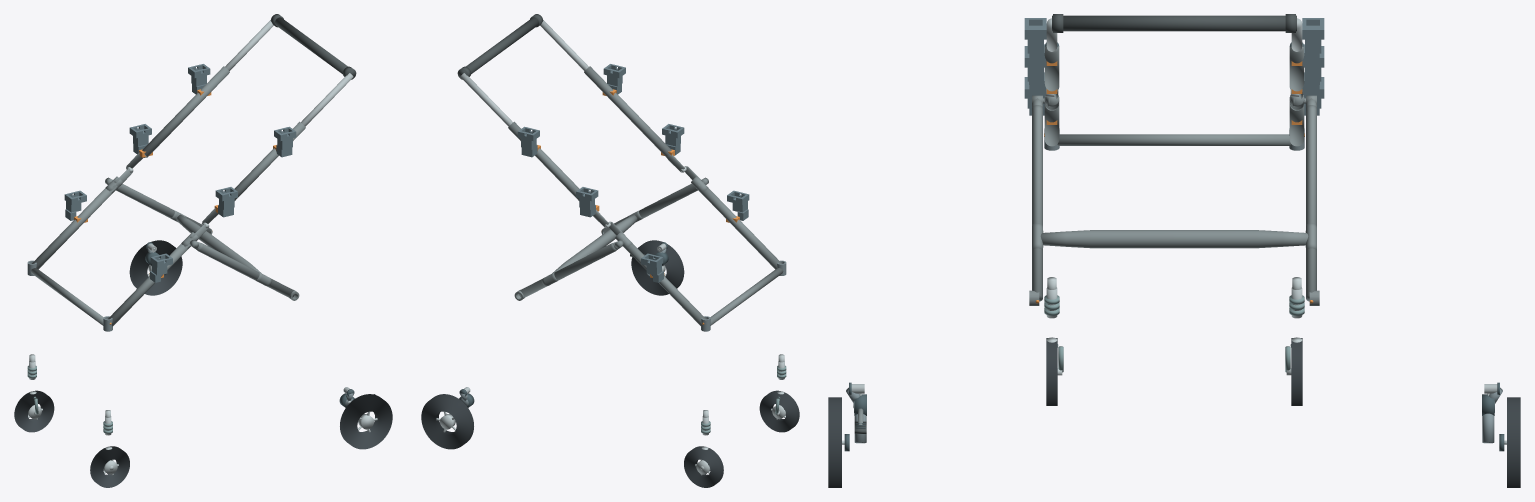
Rendered from w650_state4_wheel_S.glb.
The picture shows the model from 3 angles, left to right: view 1: azimuth 30°, elevation 25°; view 2: azimuth 150°, elevation 25°; view 3: azimuth 270°, elevation 25°; orthographic projection. The views are drawn at different scales.
Visible parts, largest first — view 1: RL_tire.014, RR_tire.014, FL_tire.014, FR_tire.014, main_upper_1.013, main_lower_1.013, round_handle.014, V46_rear_leg_-1.012, V46_rearbar.012, main_lower_-1.013, front_fixed_round_tube.013, main_upper_-1.013 (+9 smaller); view 2: RR_tire.014, RL_tire.014, FR_tire.014, FL_tire.014, main_upper_-1.013, main_lower_-1.013, round_handle.014, V46_rear_leg_1.012, V46_rearbar.012, main_lower_1.013, front_fixed_round_tube.013, main_upper_1.013 (+9 smaller); view 3: V46_rearbar.012, round_handle.014, front_fixed_round_tube.013, V46_rear_leg_1.012, V46_rear_leg_-1.012, RL_tire.014, RR_tire.014, Universal_Cabin_Receiver_H_1, Universal_Cabin_Receiver_H_-1, FL_tire.014, FR_tire.014.
Boxes of the visible parts, box(x1,y1,x2,y2) form: RL_tire.014: box(340, 394, 392, 449); RR_tire.014: box(129, 240, 182, 295); FL_tire.014: box(90, 446, 129, 487); FR_tire.014: box(14, 390, 54, 432); main_upper_1.013: box(142, 66, 229, 157); main_lower_1.013: box(32, 186, 117, 269); round_handle.014: box(275, 17, 355, 78); V46_rear_leg_-1.012: box(196, 242, 294, 297); V46_rearbar.012: box(176, 214, 261, 273); main_lower_-1.013: box(108, 243, 190, 326); front_fixed_round_tube.013: box(30, 268, 103, 325); main_upper_-1.013: box(234, 121, 305, 200); RR_tire.014: box(421, 394, 473, 449); RL_tire.014: box(631, 240, 684, 295); FR_tire.014: box(684, 446, 723, 487); FL_tire.014: box(759, 390, 799, 432); main_upper_-1.013: box(584, 66, 671, 157); main_lower_-1.013: box(696, 186, 781, 269); round_handle.014: box(458, 17, 538, 78); V46_rear_leg_1.012: box(519, 242, 617, 297); V46_rearbar.012: box(552, 214, 637, 273); main_lower_1.013: box(623, 243, 705, 326); front_fixed_round_tube.013: box(710, 268, 783, 325); main_upper_1.013: box(508, 121, 579, 200); V46_rearbar.012: box(1040, 230, 1308, 248); round_handle.014: box(1052, 15, 1296, 31); front_fixed_round_tube.013: box(1057, 134, 1291, 145); V46_rear_leg_1.012: box(1306, 105, 1316, 301); V46_rear_leg_-1.012: box(1032, 105, 1042, 301); RL_tire.014: box(828, 397, 841, 487); RR_tire.014: box(1507, 397, 1520, 487); Universal_Cabin_Receiver_H_1: box(1302, 18, 1324, 66); Universal_Cabin_Receiver_H_-1: box(1024, 18, 1046, 66); FL_tire.014: box(1046, 338, 1057, 405); FR_tire.014: box(1291, 338, 1302, 405).
Size of the model in its own units: 1.09 by 1.41 by 1.53.
